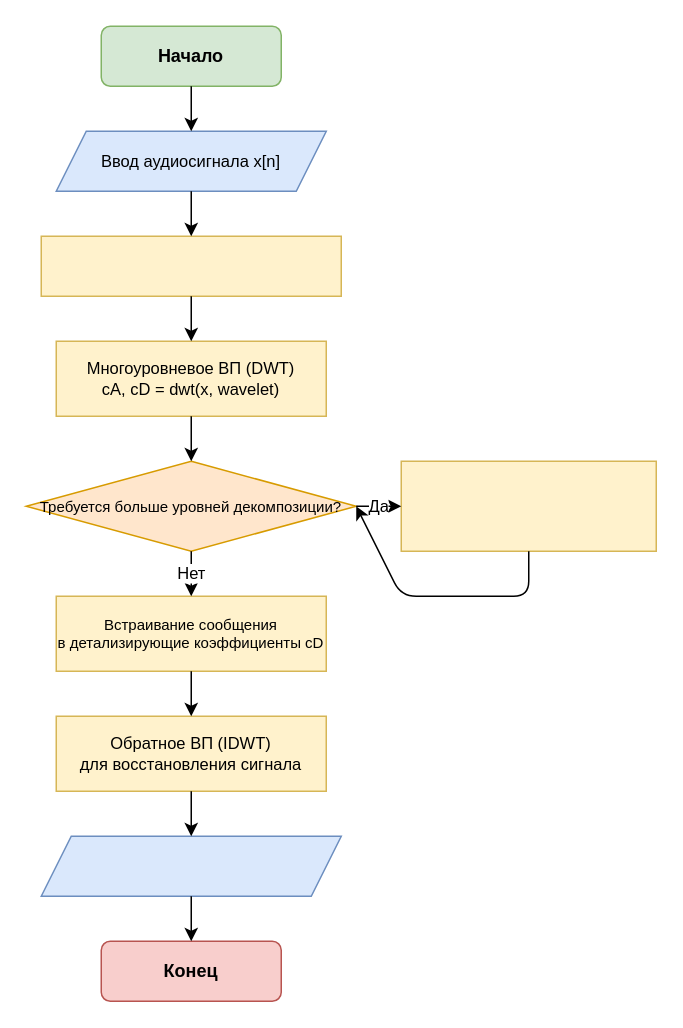
Some shapes in this 683 by 1028 pixel diagram are drawn without their labels. Here are the shapes that lost their labels. From the top down, the box of each, then its label:
(40, 235, 341, 296): Выбор вейвлета (Хаар, Добеши и др.)
(400, 460, 656, 551): Декомпозиция аппроксимирующих коэффициентов cA
(40, 835, 341, 896): Вывод модифицированного сигнала
